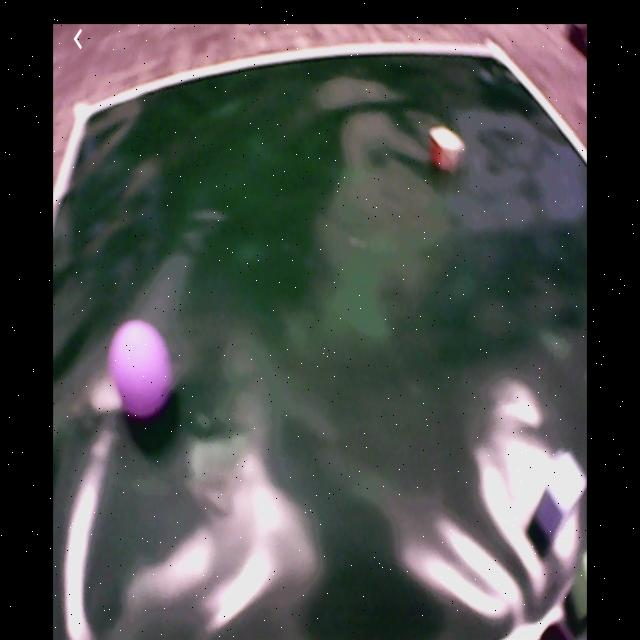ball: (111, 322, 173, 414)
